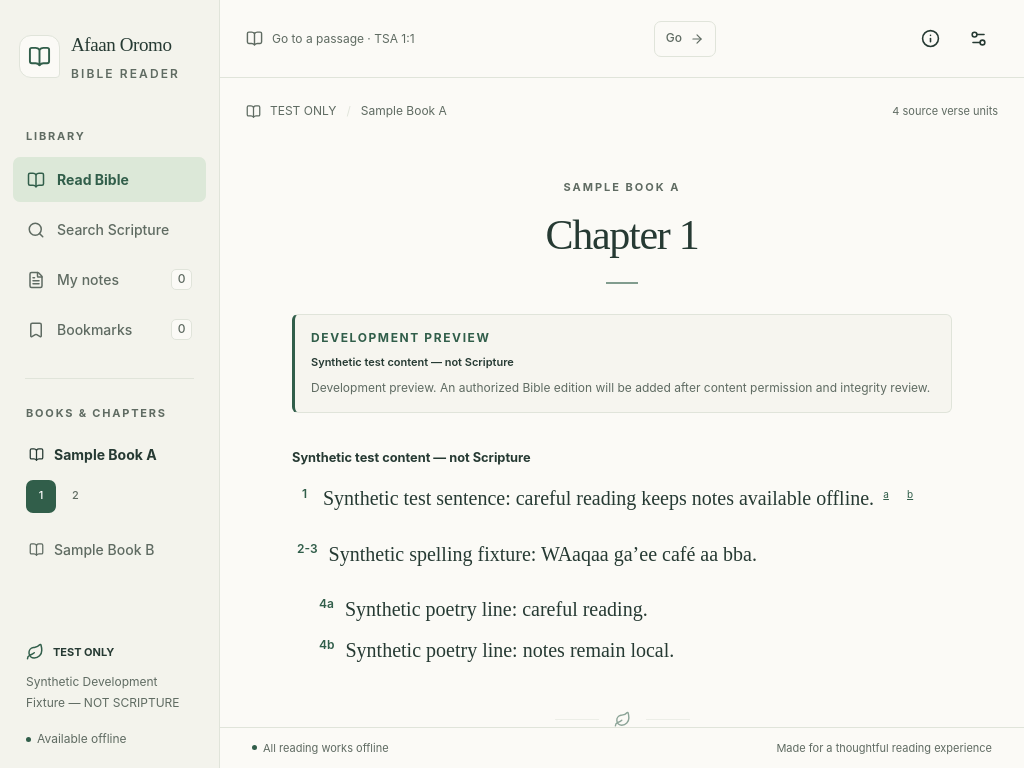
highlight provenance in the reader › keeps a changed-source highlight hidden until a user explicitly reanchors it
This screenshot has width=1024, height=768.
Expected: the heading "Chapter 1" is shown, x1=546 y1=212 x2=698 y2=258
Click the button named "Select verse Sample Book A 1:1" at [304, 494], box x1=292 y1=482 x2=317 y2=506
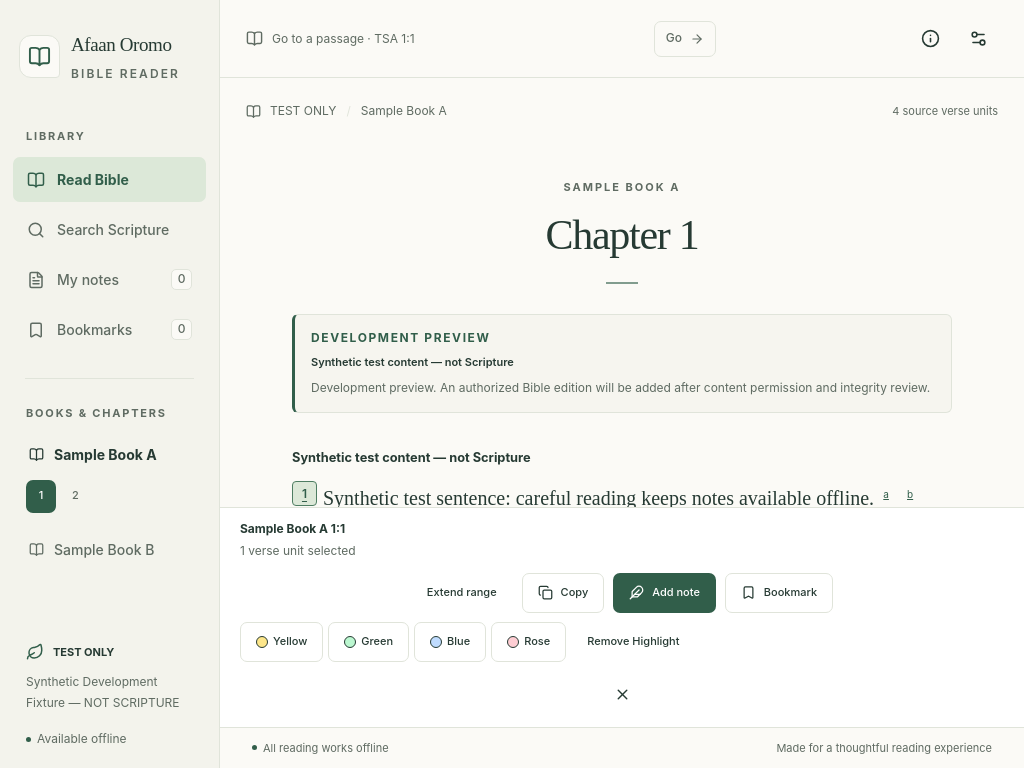
Click the button with aria-label "Highlight blue" at [450, 642], box x1=414 y1=622 x2=486 y2=662
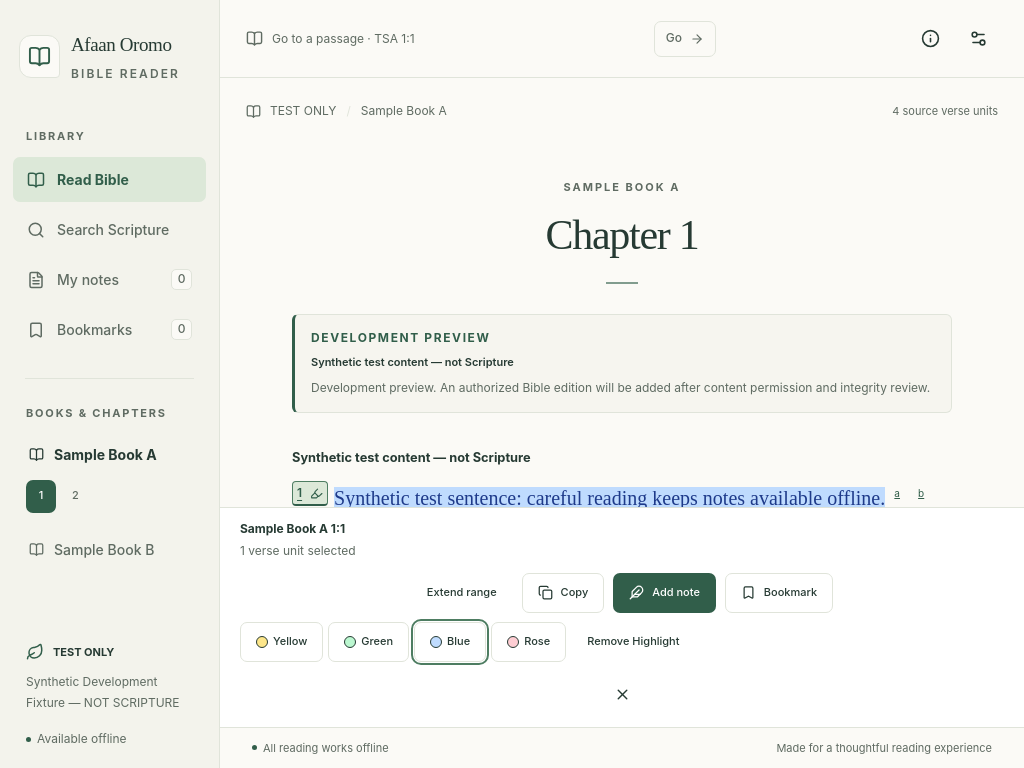
Result: the button with aria-label "Highlight blue" reads "blue" at x1=414 y1=622 x2=486 y2=662
Result: the button named "Select verse Sample Book A 1:1. Highlighted blue" is shown at x1=292 y1=482 x2=328 y2=506
